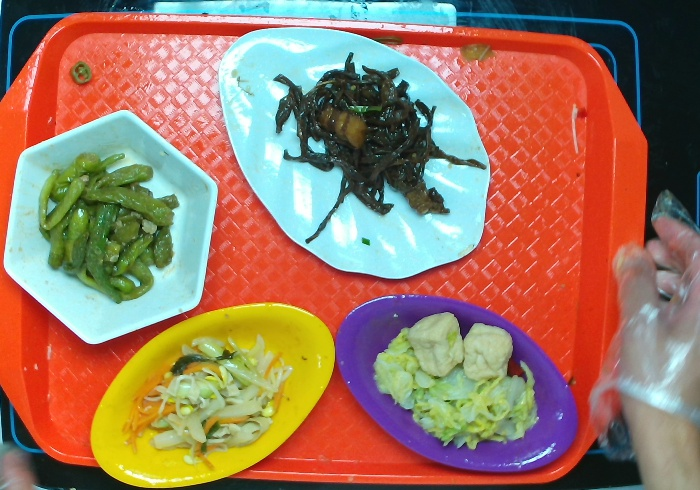RJxy-Bai_Ye_Pan: (214, 20, 496, 281)
RJxy-Fen_Hong_Tuo_Yuan: (334, 290, 581, 479)
RJxy-Huang_Se_Tuo_Yuan: (87, 298, 336, 490)
RJxy-Liu_Jiao_Wan: (4, 110, 217, 344)
